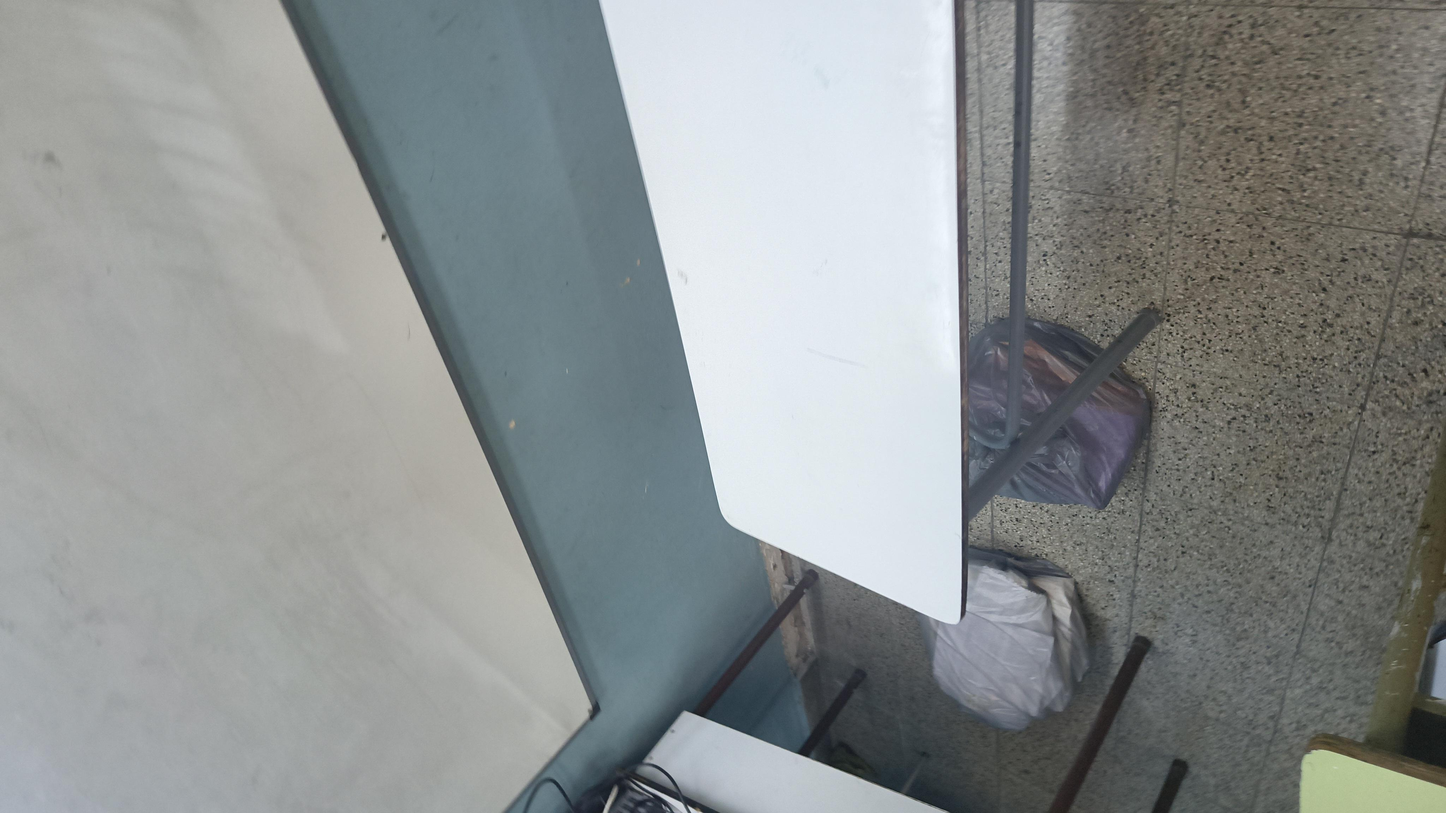Garbage: (527, 520, 929, 661), (100, 510, 508, 635)
